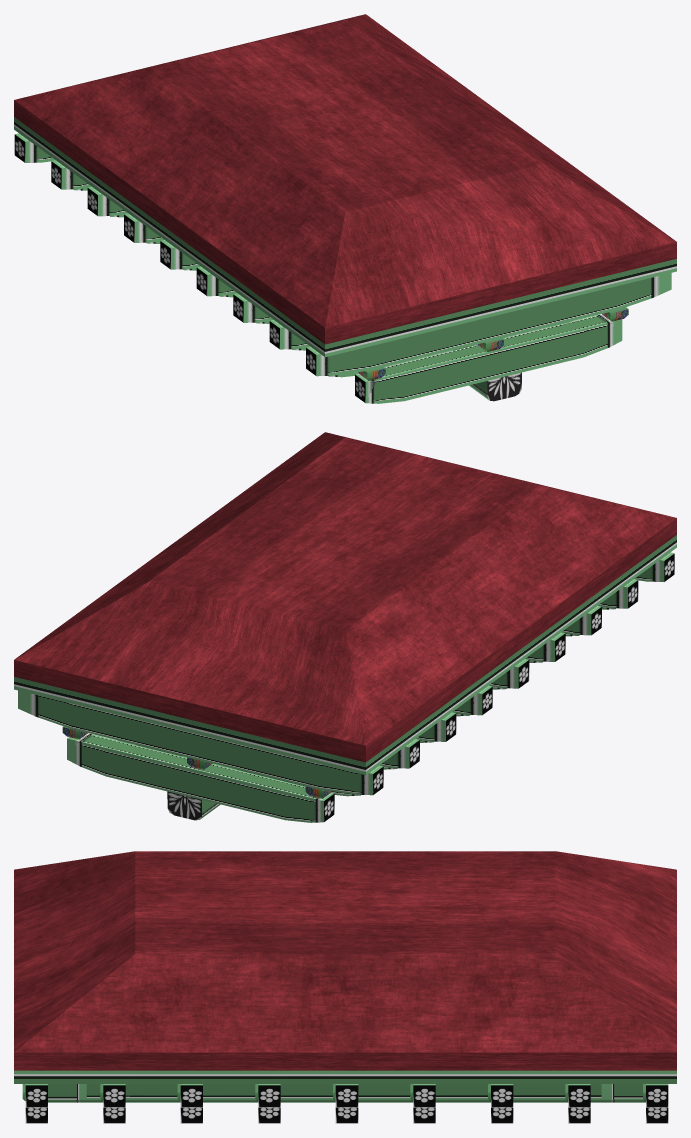
File: SM_R_R_GateModular_2.fbx
3 views of the same model, one above another, from view 1: azimuth 30°, elevation 25°; view 2: azimuth 150°, elevation 25°; view 3: azimuth 270°, elevation 25° (orthographic). The views are drawn at different scales.
Visible parts, largest first — view 1: SM_R_R_GateModular_2; view 2: SM_R_R_GateModular_2; view 3: SM_R_R_GateModular_2.
Part boxes in pixels (<box>): SM_R_R_GateModular_2: <box>14,14,676,403</box>; SM_R_R_GateModular_2: <box>14,432,676,822</box>; SM_R_R_GateModular_2: <box>14,851,676,1123</box>.
Size of the model in its own units: 203 by 308 by 96.62.
5 materials, 5 textured.
